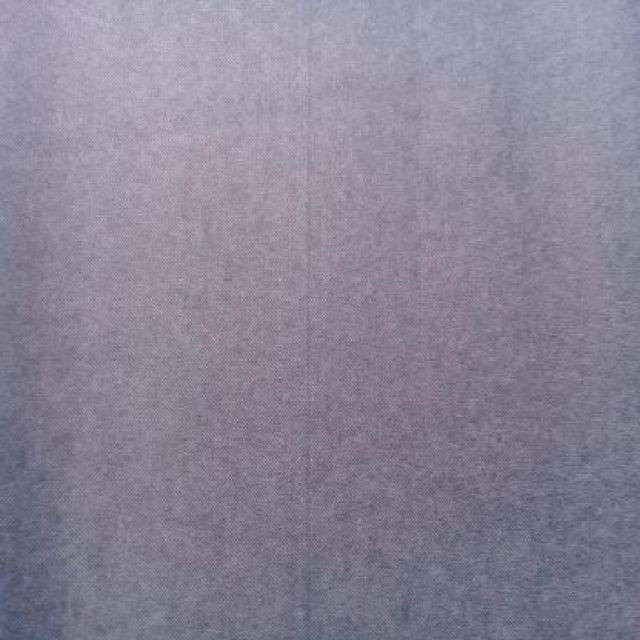pulled_or_thick_thread: (301, 70, 323, 518), (297, 560, 312, 628)
